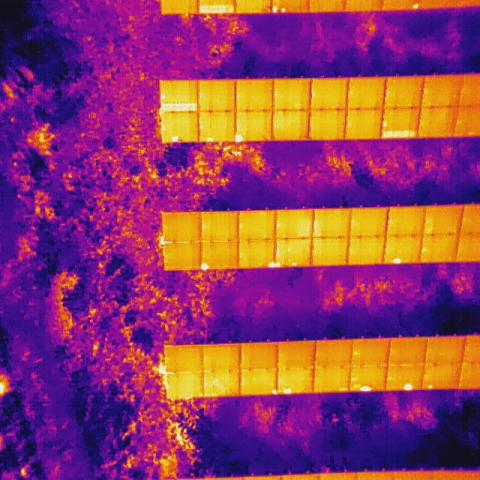fault: (199, 3, 233, 14), (160, 103, 198, 112), (380, 131, 416, 139), (402, 382, 414, 392), (269, 261, 282, 270), (359, 384, 373, 392), (391, 256, 402, 266), (282, 386, 293, 396), (233, 133, 244, 142), (411, 1, 420, 11), (199, 262, 210, 270), (170, 134, 180, 142), (271, 387, 278, 397), (206, 135, 214, 143), (160, 91, 167, 100), (382, 119, 389, 128), (272, 4, 278, 14), (290, 260, 298, 267), (160, 235, 165, 246), (428, 383, 434, 391), (280, 6, 287, 12)
